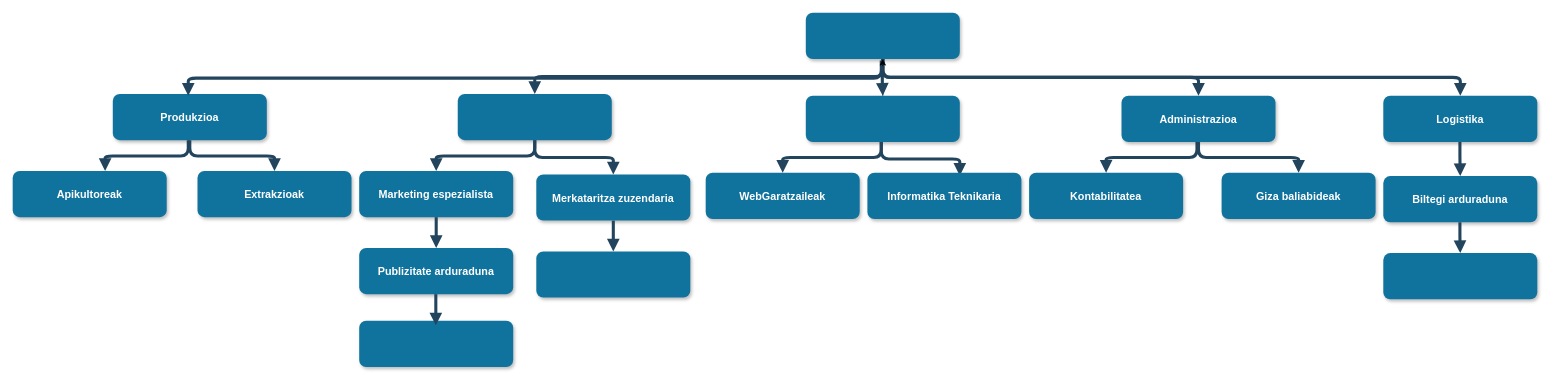
This 1550x380 diagram has some shape labels left out. The shapes that lost their labels are listed below. From the top down, each one's centre as x and y in pixels, then its label:
the point at 883,36: Nagusia
the point at 535,117: Marketing eta salmentak
the point at 883,119: Informatika
the point at 614,275: Salmenta ordezkaria
the point at 1461,277: Banaketa arduraduna
the point at 436,344: SareSozialak
